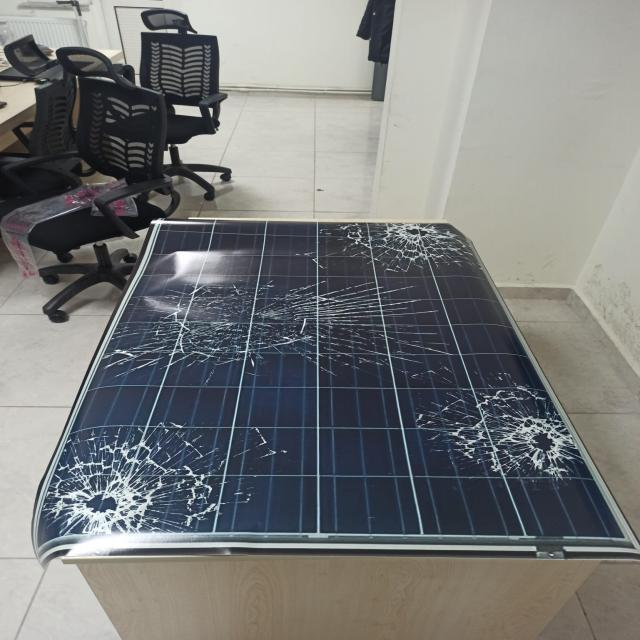faulty: (29, 212, 640, 570)
